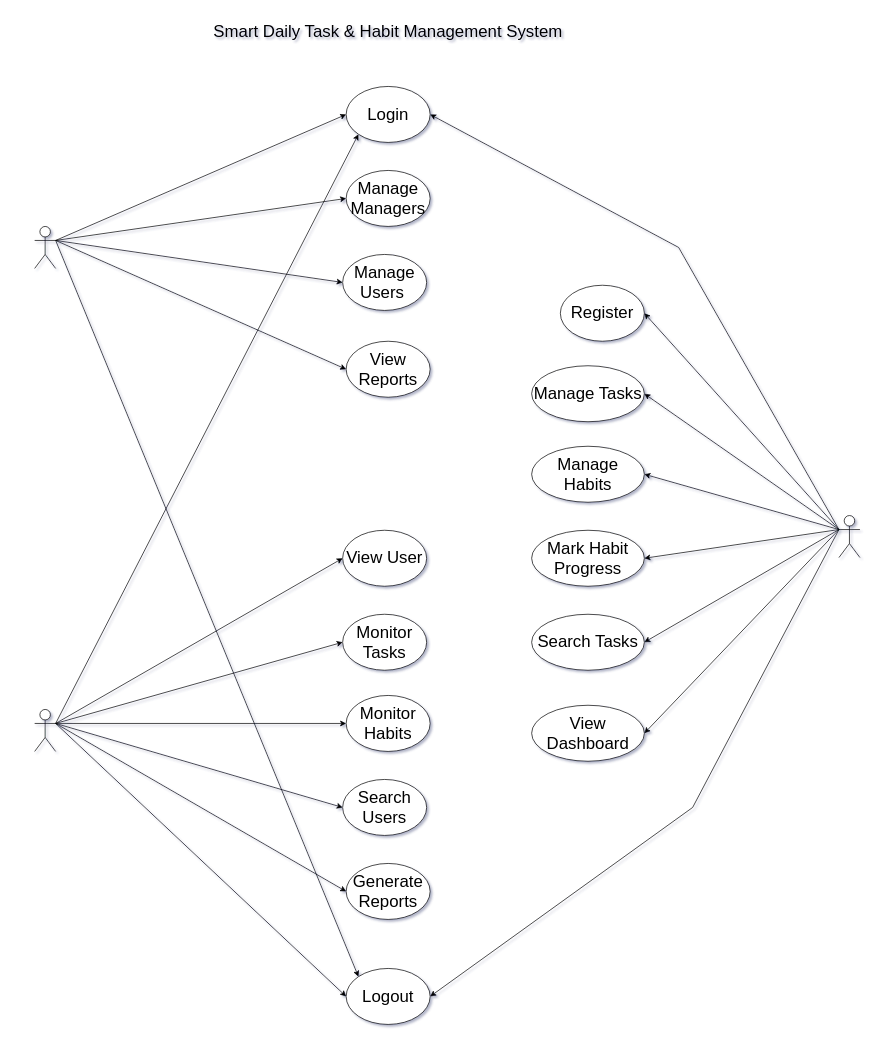
Image size: 883x1041. Some labels were removed from this diagram. The centre of each missing label's shape, as x and y in pixels:
"Admin" belongs at point 45,247.
"Manager" belongs at point 45,730.
"User" belongs at point 849,536.
